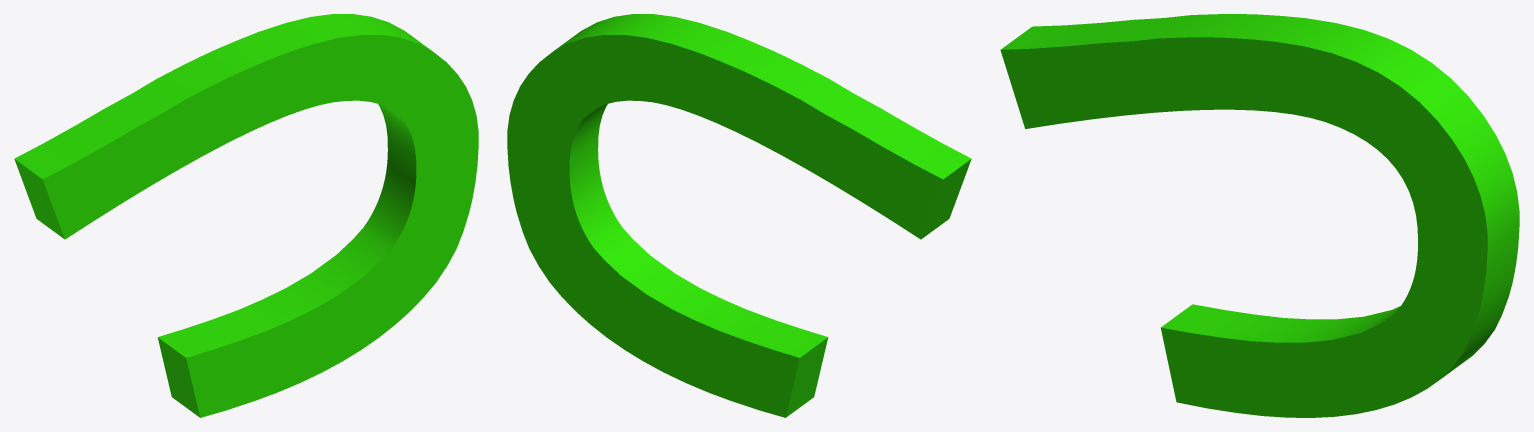
3 renders of one model, left to right at view 1: azimuth 30°, elevation 25°; view 2: azimuth 150°, elevation 25°; view 3: azimuth 330°, elevation 25°, orthographic. The views are drawn at different scales.
Parts seen in each view (by area): view 1: tu; view 2: tu; view 3: tu.
Boxes of the visible parts, x1,y1,x2,y2 form: tu: [14, 14, 478, 417]; tu: [507, 14, 971, 417]; tu: [1000, 14, 1519, 417].
Bounding box in the file's own units: 85.65 × 65.02 × 9.71.
